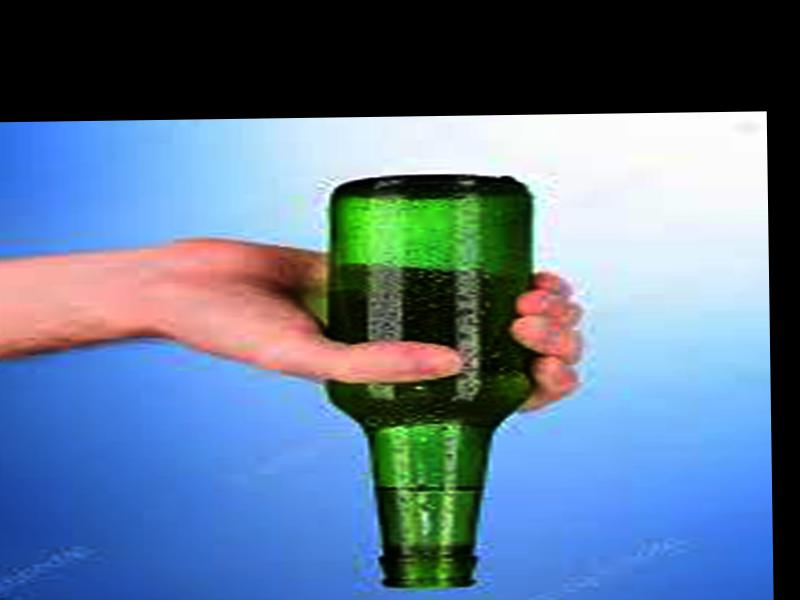Beer: (329, 173, 532, 590)
